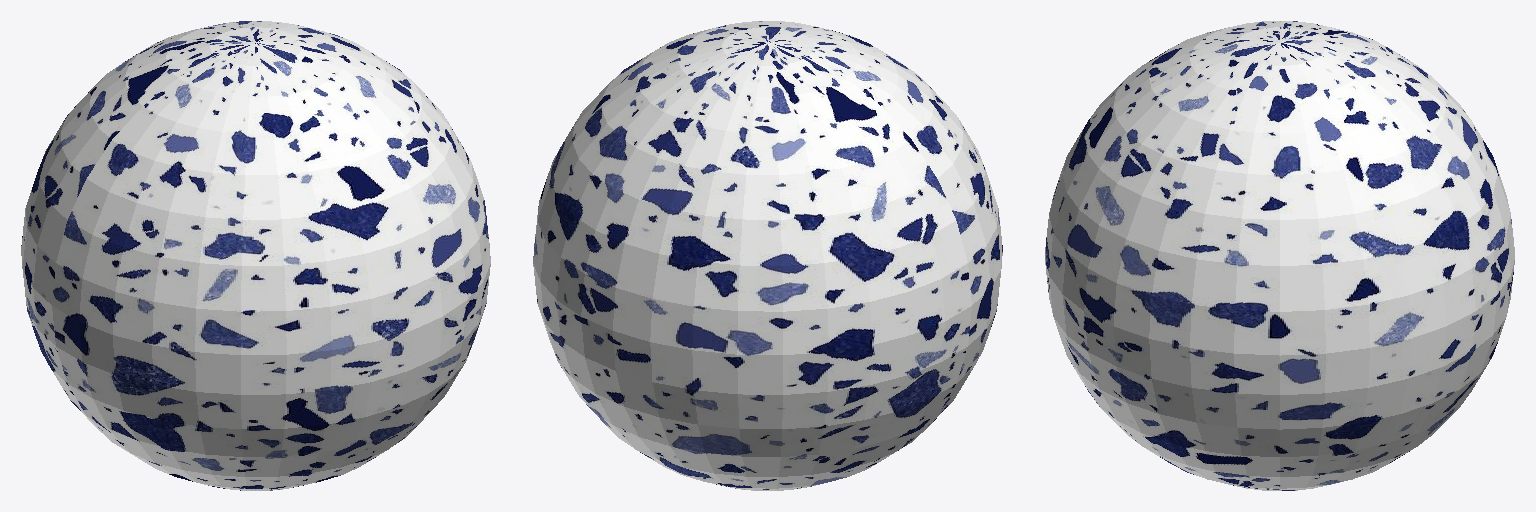
3 renders of one model, left to right at view 1: azimuth 30°, elevation 25°; view 2: azimuth 150°, elevation 25°; view 3: azimuth 270°, elevation 25°, orthographic.
Parts seen in each view (by area): view 1: Sphere; view 2: Sphere; view 3: Sphere.
Part boxes in pixels (bbox=[...]): Sphere: bbox=[21, 21, 490, 490]; Sphere: bbox=[533, 21, 1002, 490]; Sphere: bbox=[1045, 21, 1514, 490].
Size of the model in its own units: 2 by 2 by 2.
Materials: 1 (1 with a texture image).